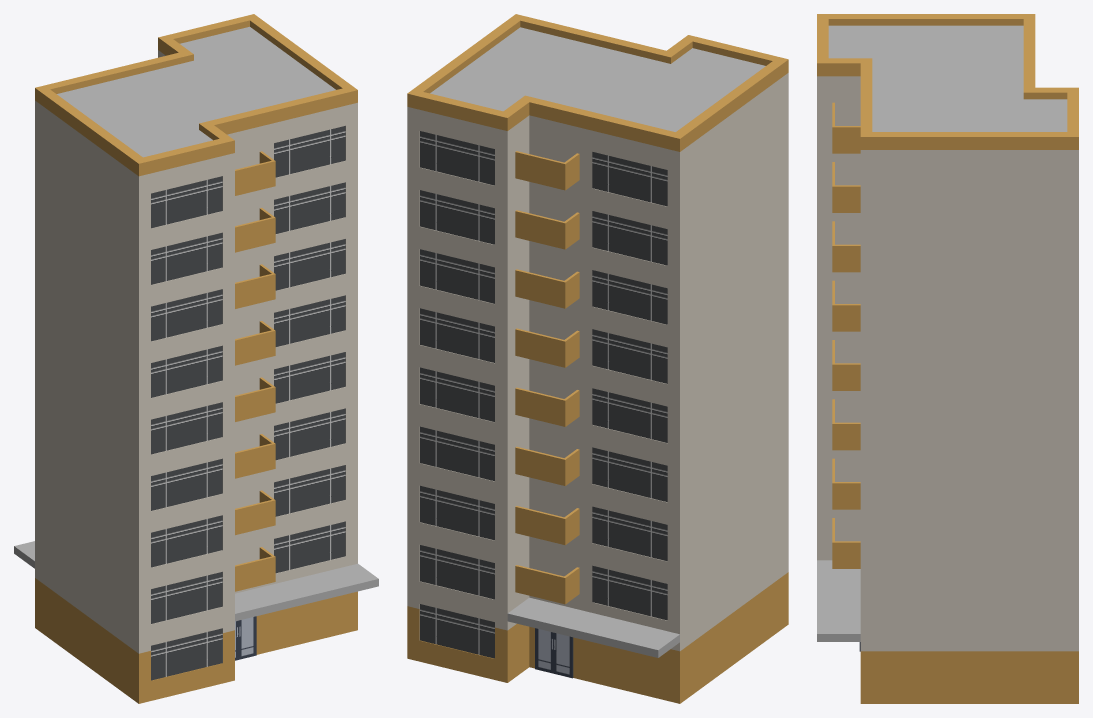
File: SPW_Urban_Bldg_05.gltf
3 views of the same model, side by side, from view 1: azimuth 30°, elevation 25°; view 2: azimuth 150°, elevation 25°; view 3: azimuth 270°, elevation 25° (orthographic). The views are drawn at different scales.
Visible parts, largest first — view 1: SPW_Urban_Bldg_05; view 2: SPW_Urban_Bldg_05; view 3: SPW_Urban_Bldg_05.
Boxes of the visible parts, x1,y1,x2,y2 form: SPW_Urban_Bldg_05: (14, 14, 378, 703); SPW_Urban_Bldg_05: (407, 14, 788, 703); SPW_Urban_Bldg_05: (817, 14, 1078, 703).
Size of the model in its own units: 689 by 1481 by 620.
1 material, 1 textured.
